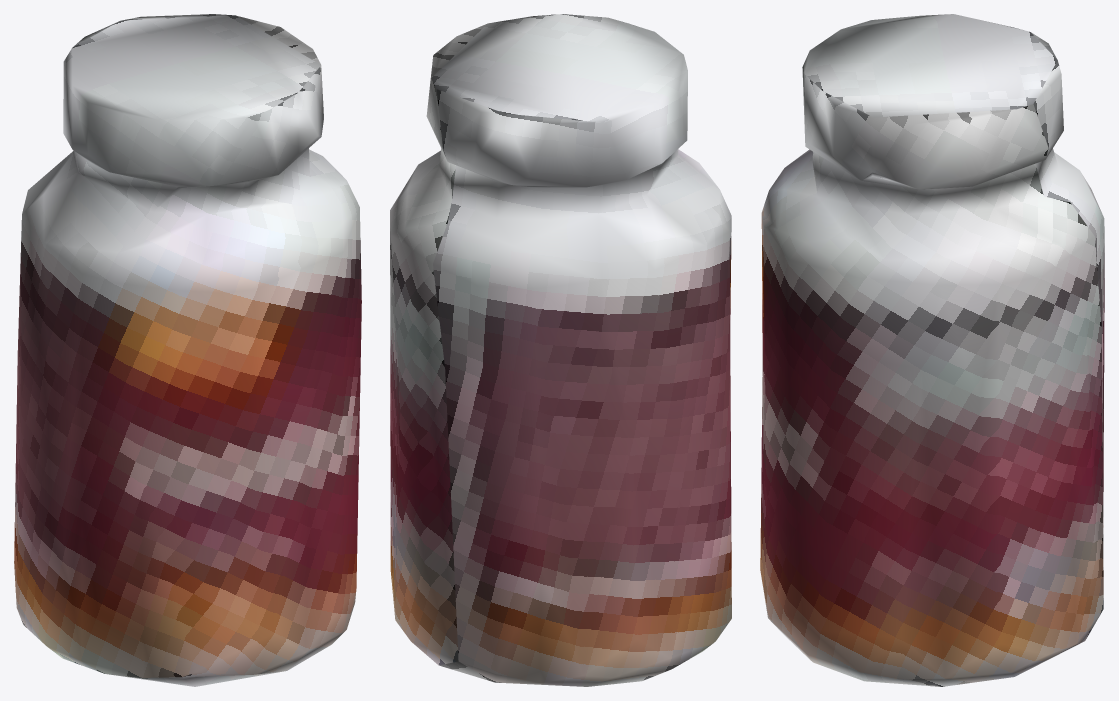
Rendered from Inositol-low.glb.
The picture shows the model from 3 angles, left to right: view 1: azimuth 30°, elevation 25°; view 2: azimuth 150°, elevation 25°; view 3: azimuth 270°, elevation 25°; orthographic projection.
Visible parts, largest first — view 1: Inositol; view 2: Inositol; view 3: Inositol.
Boxes of the visible parts, <box> form: Inositol: <box>14,14,361,686</box>; Inositol: <box>390,14,731,686</box>; Inositol: <box>760,14,1104,686</box>.
Bounding box in the file's own units: 0.0619 × 0.1099 × 0.0611.
1 material, 1 textured.
